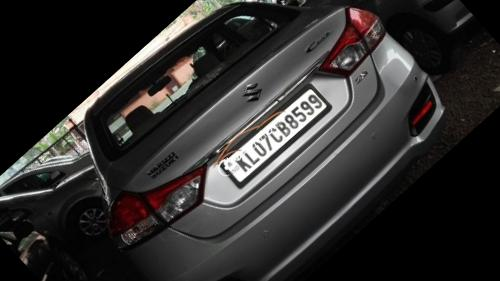plate: (207, 71, 346, 202)
